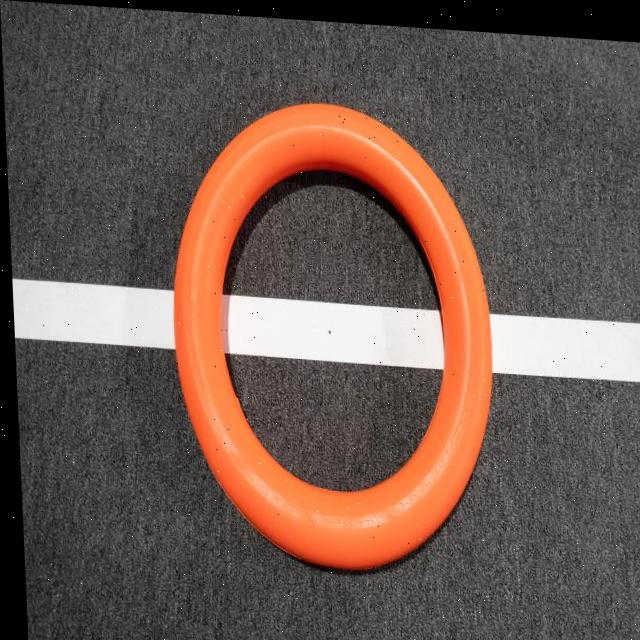note: (154, 82, 502, 597)
